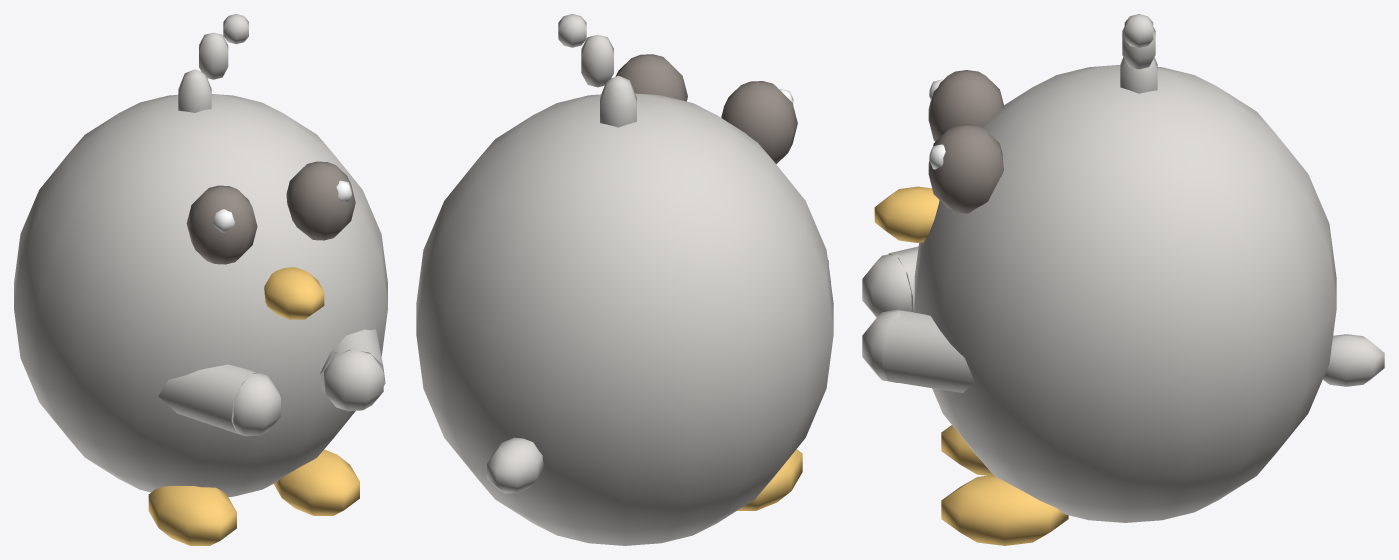
Rendered from kkoma.glb.
The picture shows the model from 3 angles, left to right: view 1: azimuth 30°, elevation 25°; view 2: azimuth 150°, elevation 25°; view 3: azimuth 270°, elevation 25°; orthographic projection. The views are drawn at different scales.
Visible parts, largest first — view 1: kkoma; view 2: kkoma; view 3: kkoma.
Part boxes in pixels (left/top/right/bottom): kkoma: left=14, top=14, right=387, bottom=545; kkoma: left=416, top=14, right=833, bottom=545; kkoma: left=862, top=14, right=1384, bottom=545.
Size of the model in its own units: 32 by 42.3 by 39.02.
